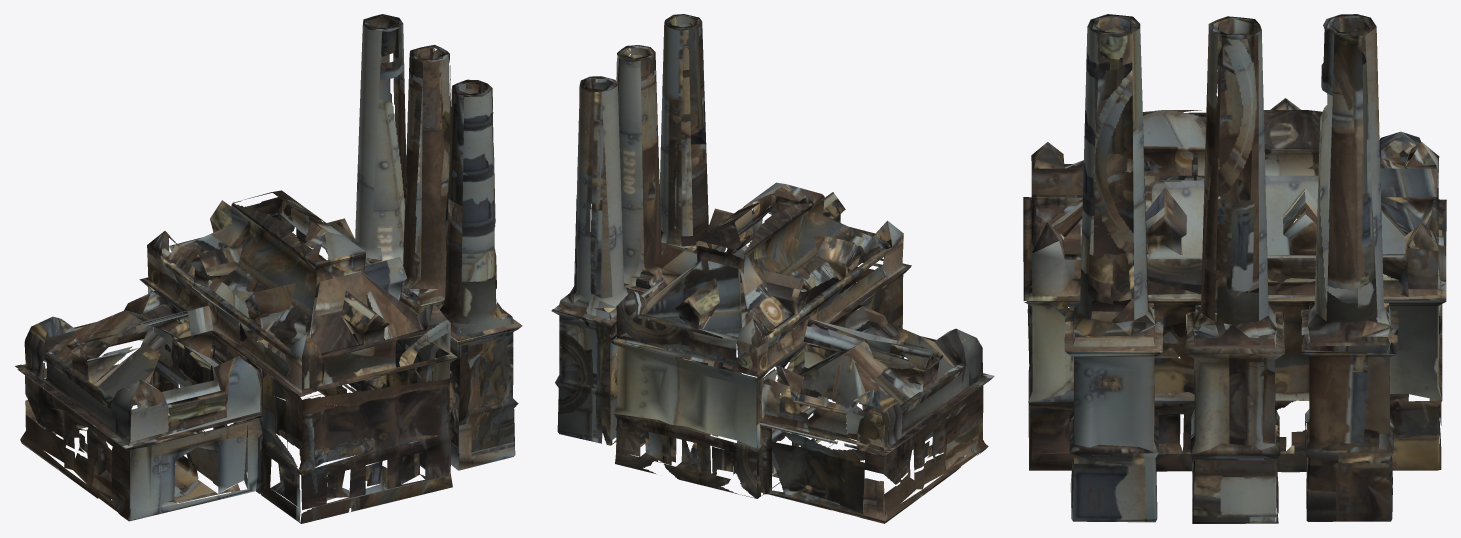
File: wwtankfactory.dae
3 renders of one model, left to right at view 1: azimuth 30°, elevation 25°; view 2: azimuth 150°, elevation 25°; view 3: azimuth 270°, elevation 25°, orthographic. The views are drawn at different scales.
Visible parts, largest first — view 1: base; view 2: base; view 3: base.
Part boxes in pixels (box(x1,y1,x2,y2)): base: box(15, 14, 522, 523); base: box(551, 14, 994, 523); base: box(1023, 14, 1446, 523).
Size of the model in its own units: 144 by 107 by 135.
1 material, 1 textured.
